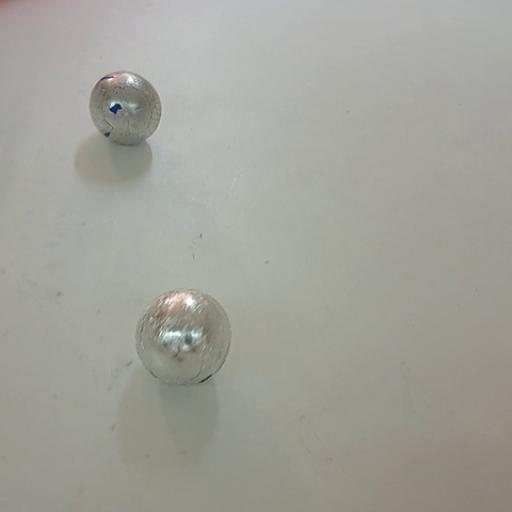alive: (132, 286, 236, 389), (89, 71, 161, 145)
